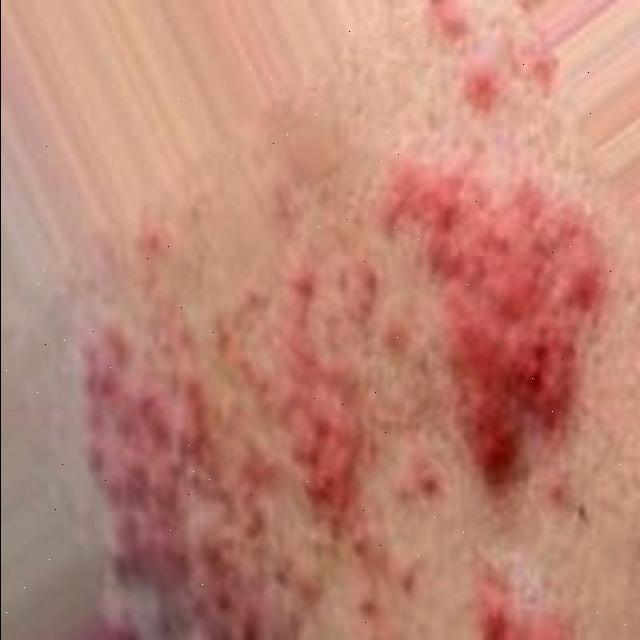Shingles: (78, 161, 605, 639)
